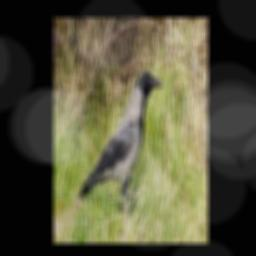Crow: (78, 72, 163, 212)
